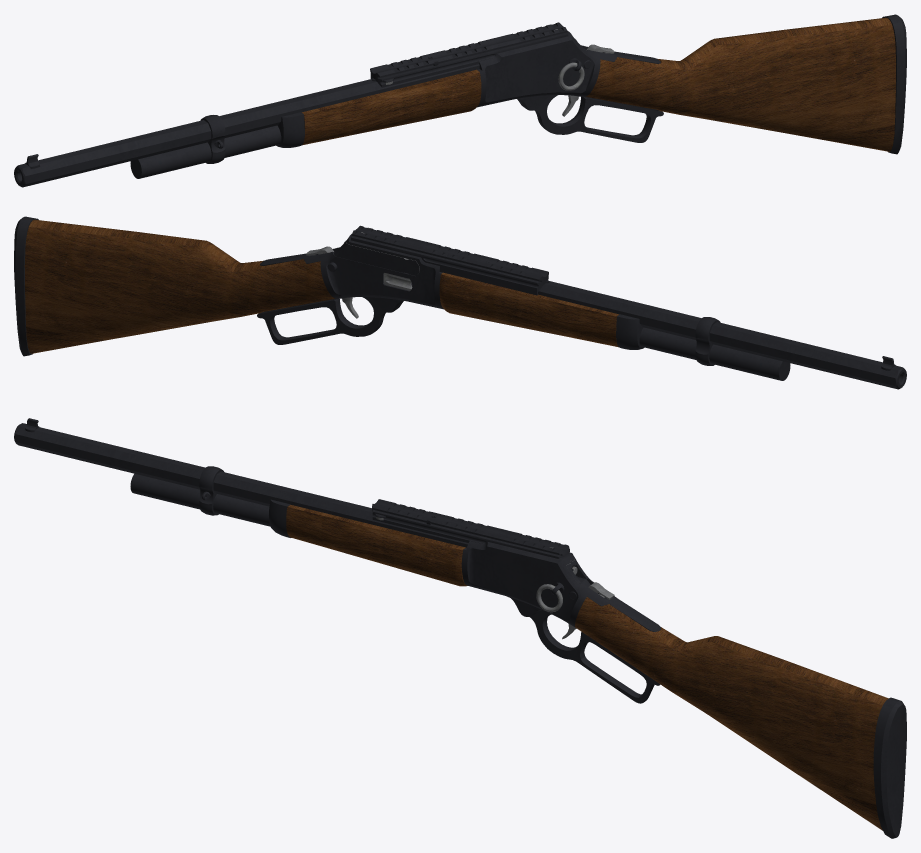
File: lever.glb
3 views of the same model, one above another, from view 1: azimuth 30°, elevation 25°; view 2: azimuth 150°, elevation 25°; view 3: azimuth 330°, elevation 25° (orthographic).
Visible parts, largest first — view 1: lever; view 2: lever; view 3: lever.
Boxes of the visible parts, x1,y1,x2,y2 form: lever: (14,14,906,187); lever: (14,216,906,389); lever: (14,418,906,838).
Bounding box in the file's own units: 0.97 × 0.2197 × 0.0474.
Materials: 3 (3 with a texture image).
